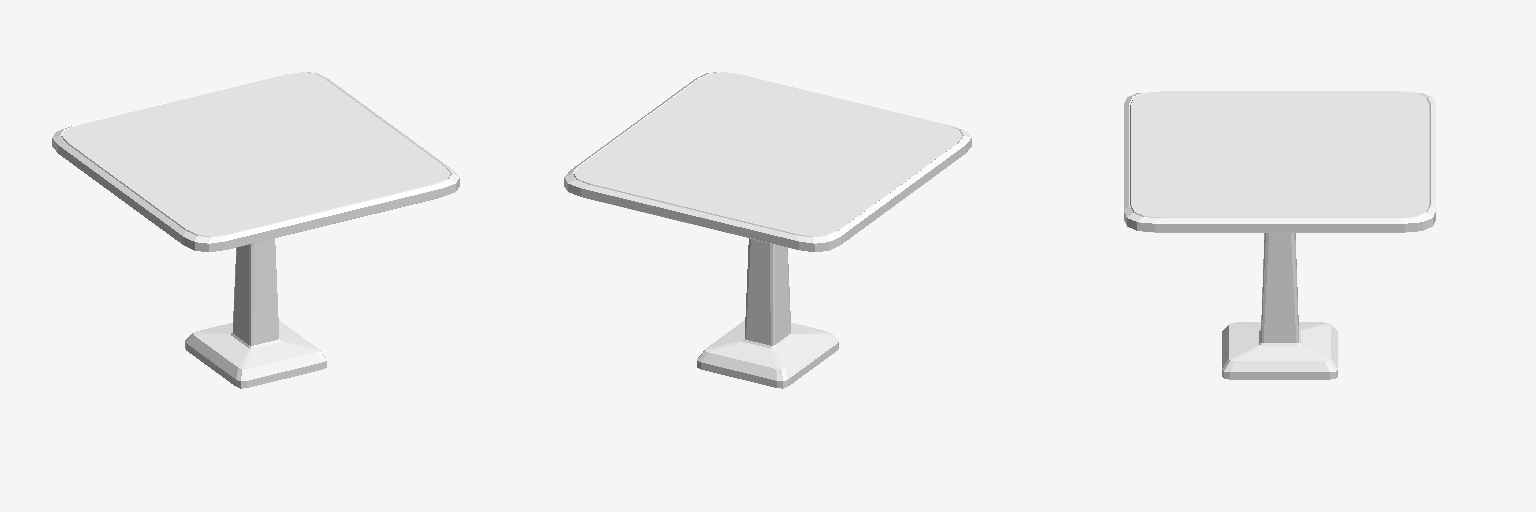
3 renders of one model, left to right at view 1: azimuth 30°, elevation 25°; view 2: azimuth 150°, elevation 25°; view 3: azimuth 270°, elevation 25°, orthographic.
Parts seen in each view (by area): view 1: aws_BalconyTable_01_visualMesh; view 2: aws_BalconyTable_01_visualMesh; view 3: aws_BalconyTable_01_visualMesh.
Boxes of the visible parts, <box> form: aws_BalconyTable_01_visualMesh: <box>52,72,459,388</box>; aws_BalconyTable_01_visualMesh: <box>564,72,971,388</box>; aws_BalconyTable_01_visualMesh: <box>1124,91,1435,379</box>.
Bounding box in the file's own units: 0.5574 × 0.4 × 0.5574.